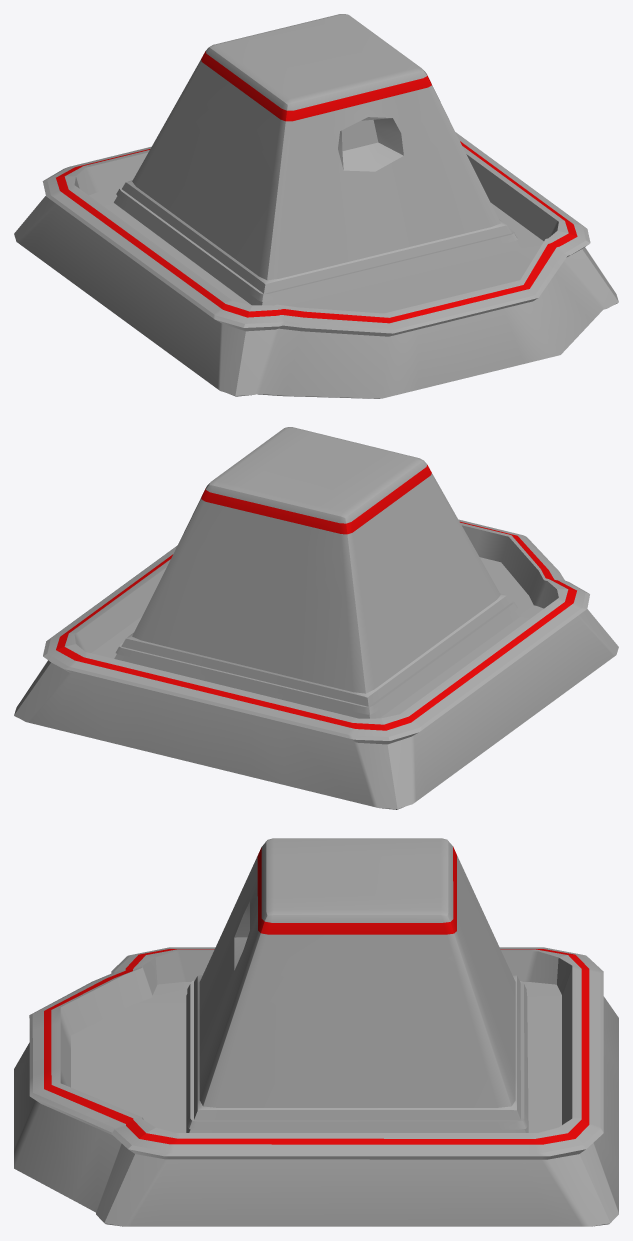
The model's file is pillier fontaine 1.1.fbx.
The picture shows the model from 3 angles, top to bottom: view 1: azimuth 30°, elevation 25°; view 2: azimuth 150°, elevation 25°; view 3: azimuth 270°, elevation 25°; orthographic projection. The views are drawn at different scales.
Parts seen in each view (by area): view 1: pillierfontaine_2_2; view 2: pillierfontaine_2_2; view 3: pillierfontaine_2_2.
Part boxes in pixels (x1=…): pillierfontaine_2_2: x1=14, y1=14, x2=618, y2=398; pillierfontaine_2_2: x1=14, y1=427, x2=618, y2=809; pillierfontaine_2_2: x1=14, y1=838, x2=618, y2=1226.
Size of the model in its own units: 564 by 291 by 653.
